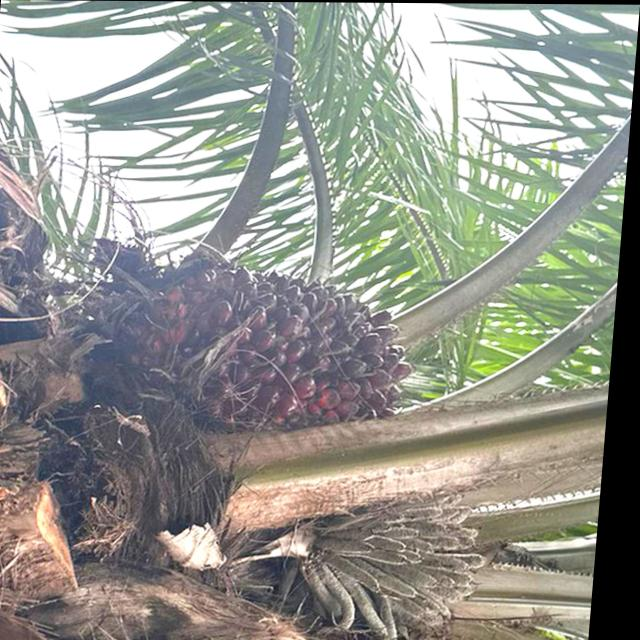ripe: (132, 242, 440, 448)
